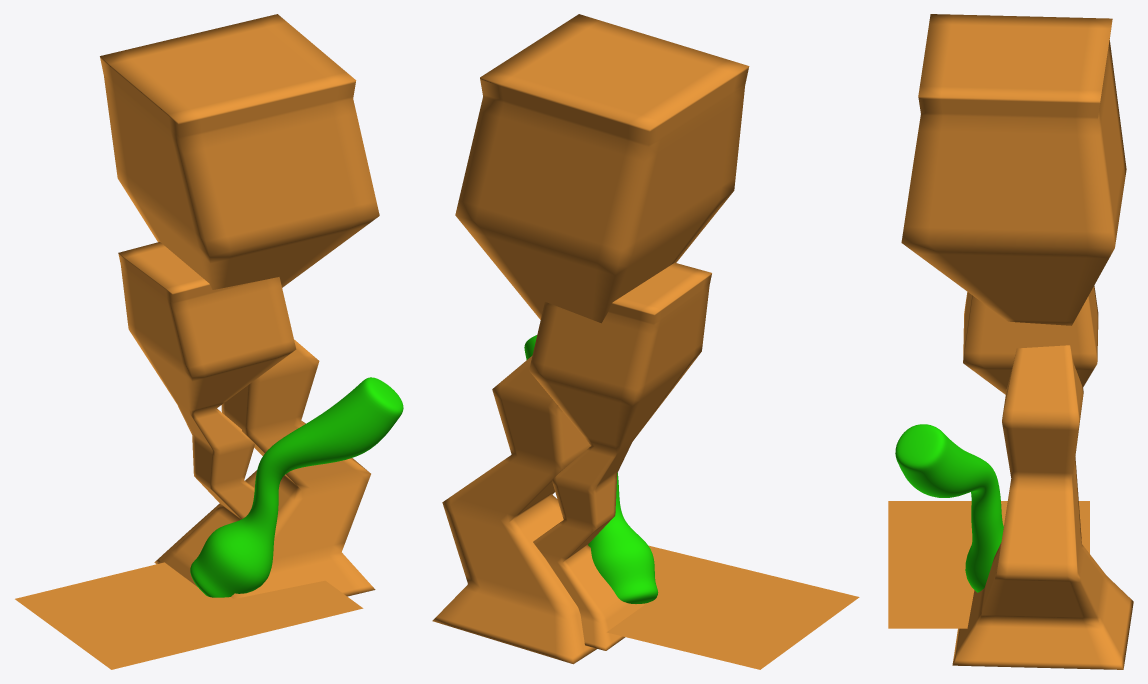
The model's file is Floor_Platforms_003.fbx.
3 renders of one model, left to right at view 1: azimuth 30°, elevation 25°; view 2: azimuth 150°, elevation 25°; view 3: azimuth 270°, elevation 25°, orthographic. The views are drawn at different scales.
Visible parts, largest first — view 1: Floor.Platforms.003|cliff.001|Dupli|2, Floor.Platforms.003|cliff.001|Dupli|3, Floor.Platforms.003, Floor.Platforms.003|cliff|Dupli|1; view 2: Floor.Platforms.003|cliff.001|Dupli|2, Floor.Platforms.003|cliff.001|Dupli|3, Floor.Platforms.003, Floor.Platforms.003|cliff|Dupli|1; view 3: Floor.Platforms.003|cliff.001|Dupli|2, Floor.Platforms.003, Floor.Platforms.003|cliff|Dupli|1, Floor.Platforms.003|cliff.001|Dupli|3.
Part boxes in pixels (x1,y1,x2,y2): Floor.Platforms.003|cliff.001|Dupli|2: (100, 14, 379, 598); Floor.Platforms.003|cliff.001|Dupli|3: (118, 242, 296, 586); Floor.Platforms.003: (15, 562, 363, 669); Floor.Platforms.003|cliff|Dupli|1: (190, 377, 403, 597); Floor.Platforms.003|cliff.001|Dupli|2: (432, 14, 749, 664); Floor.Platforms.003|cliff.001|Dupli|3: (529, 263, 711, 650); Floor.Platforms.003: (606, 545, 859, 669); Floor.Platforms.003|cliff|Dupli|1: (524, 335, 658, 603); Floor.Platforms.003|cliff.001|Dupli|2: (901, 14, 1133, 669); Floor.Platforms.003: (888, 501, 1089, 628); Floor.Platforms.003|cliff|Dupli|1: (895, 424, 1003, 592); Floor.Platforms.003|cliff.001|Dupli|3: (963, 285, 1098, 394).
Size of the model in its own units: 752 by 1215 by 487.
